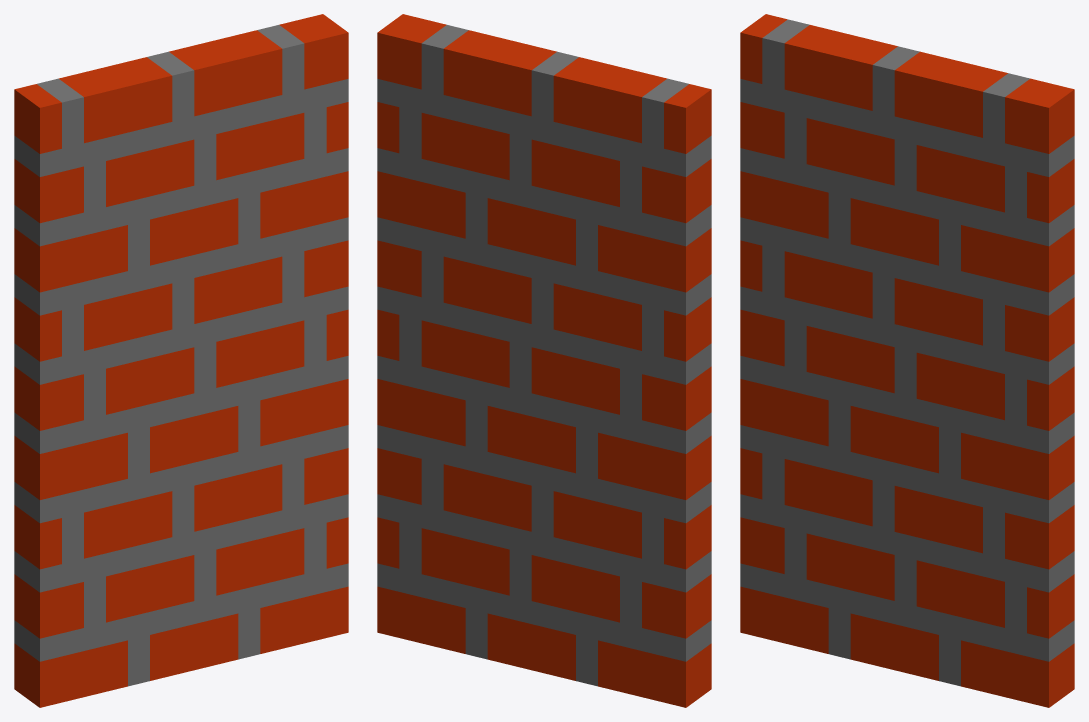
File: obstaculo_irrompible.obj
3 renders of one model, left to right at view 1: azimuth 30°, elevation 25°; view 2: azimuth 150°, elevation 25°; view 3: azimuth 330°, elevation 25°, orthographic.
Size of the model in its own units: 1.4 by 2.6 by 0.2.
1 material, 1 textured.
